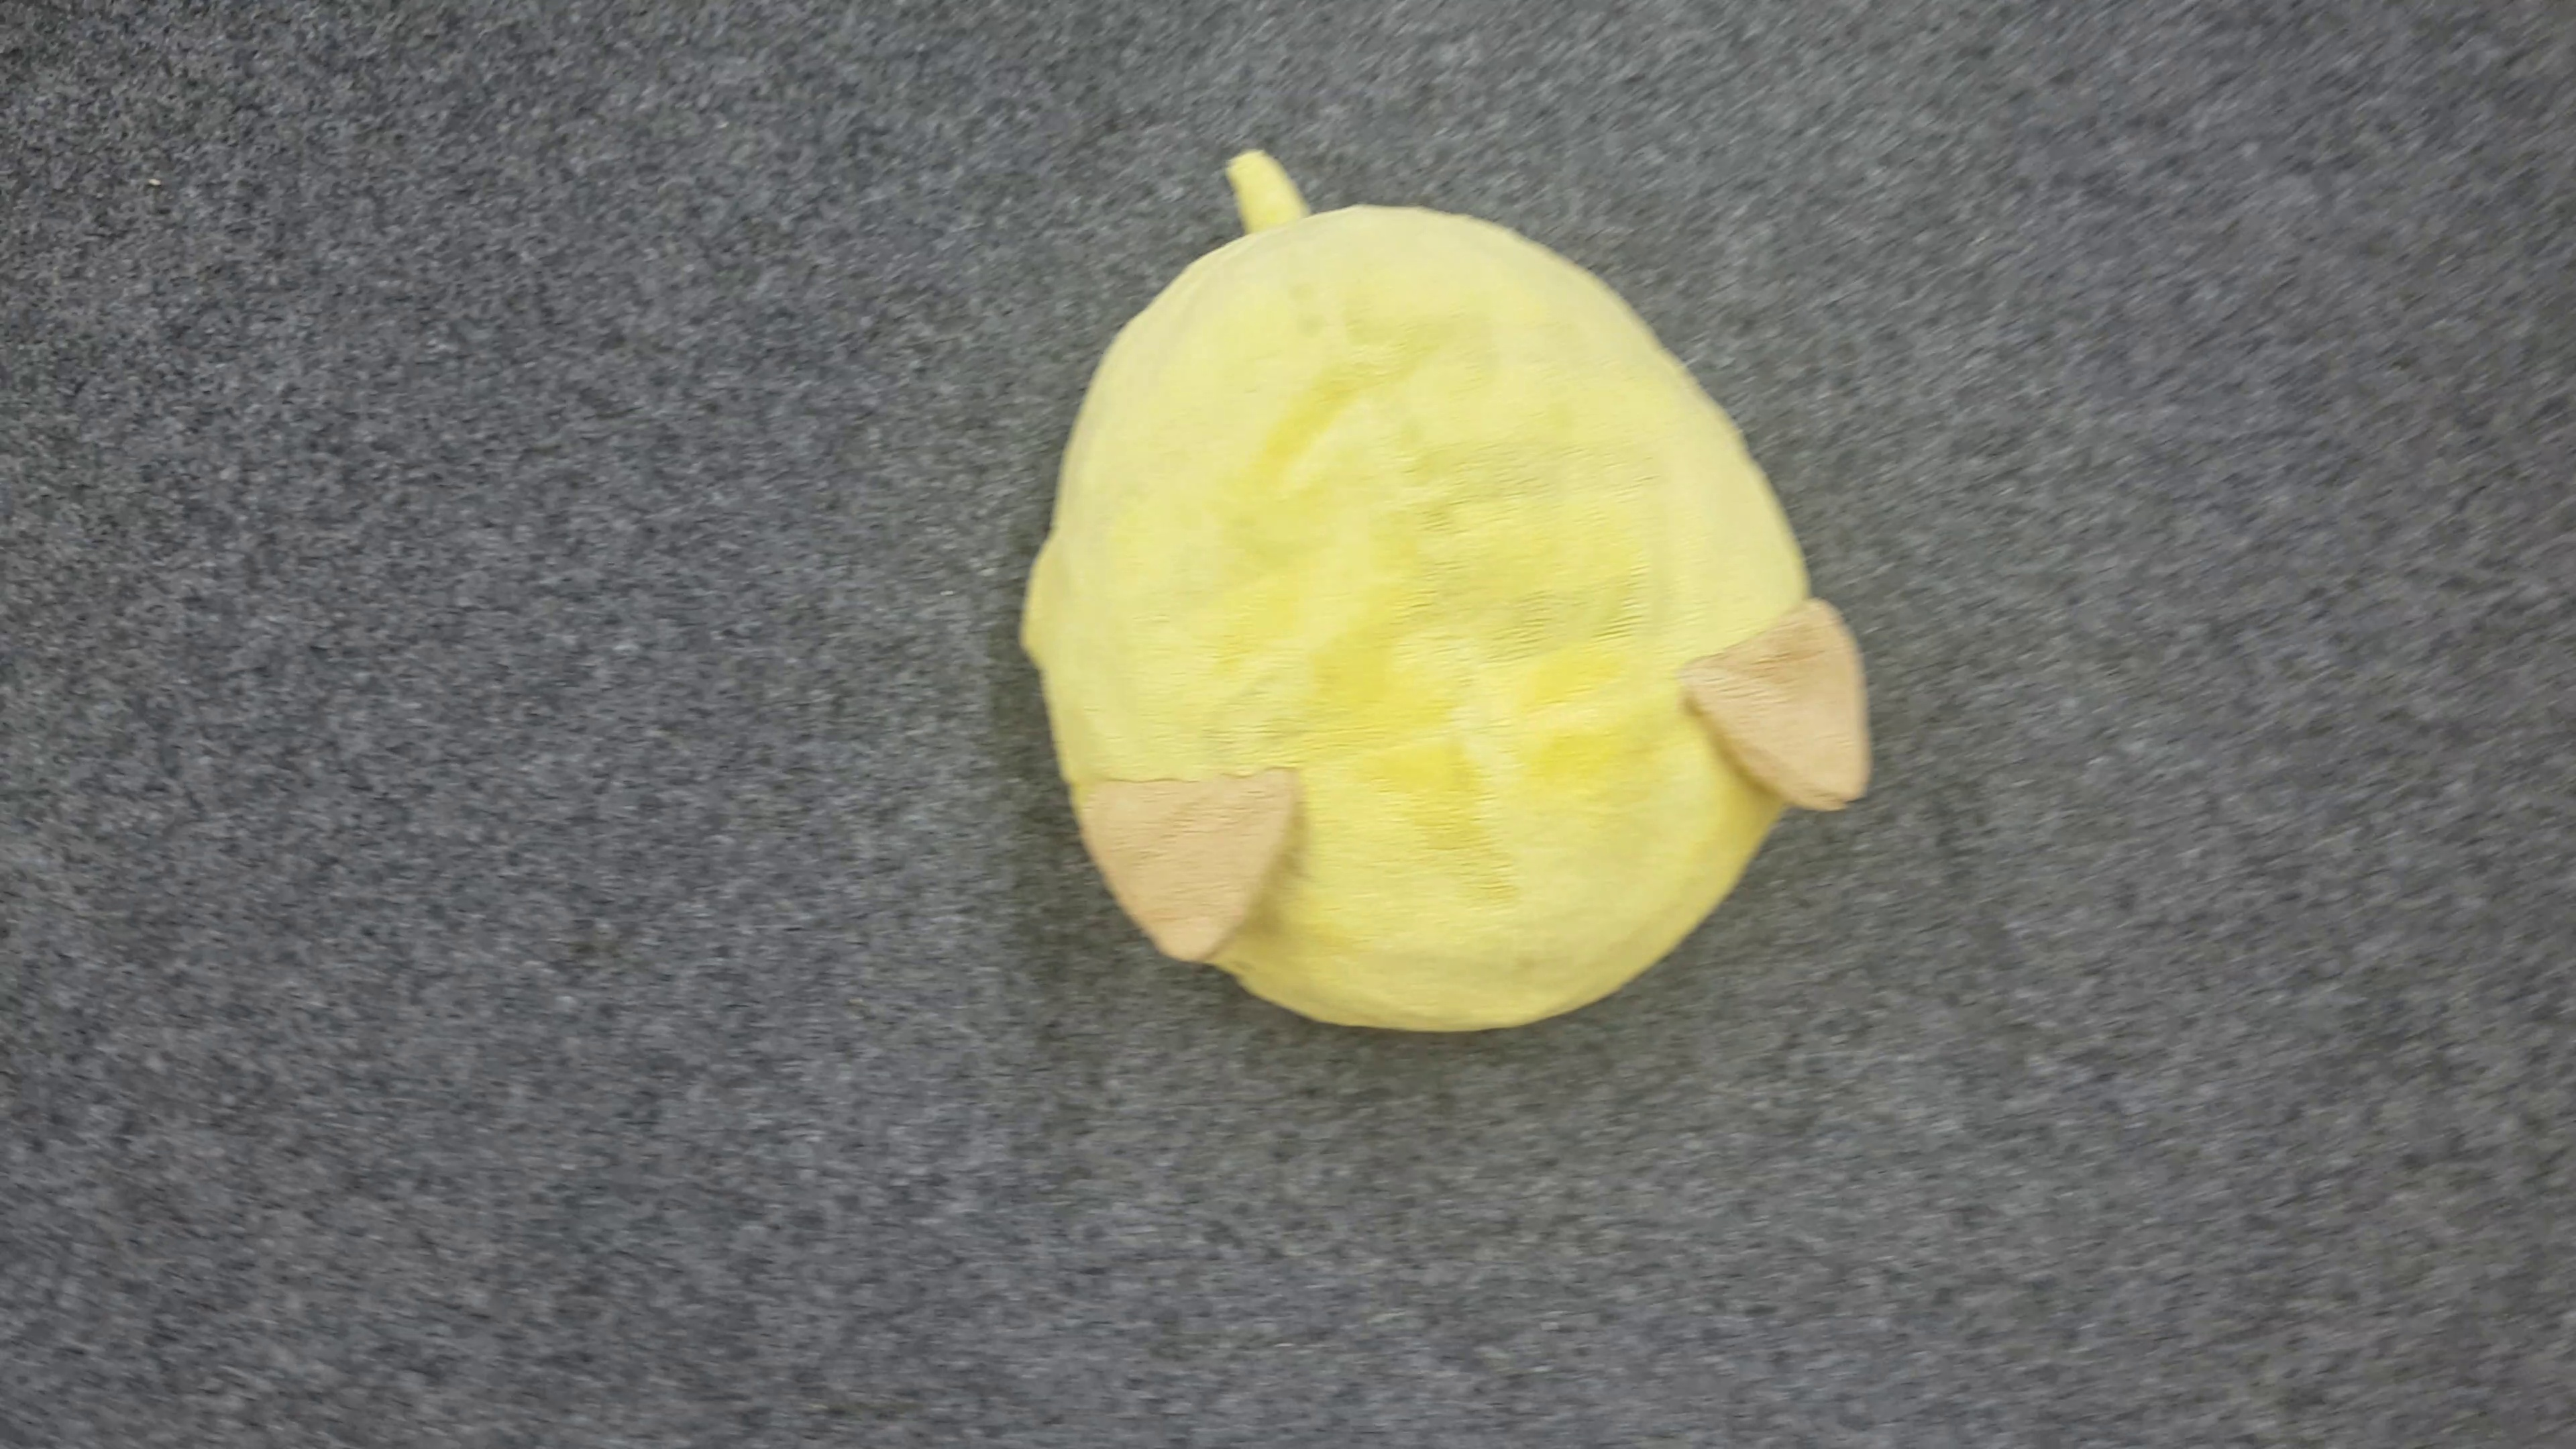grasp: (1023, 138, 1872, 1028)
